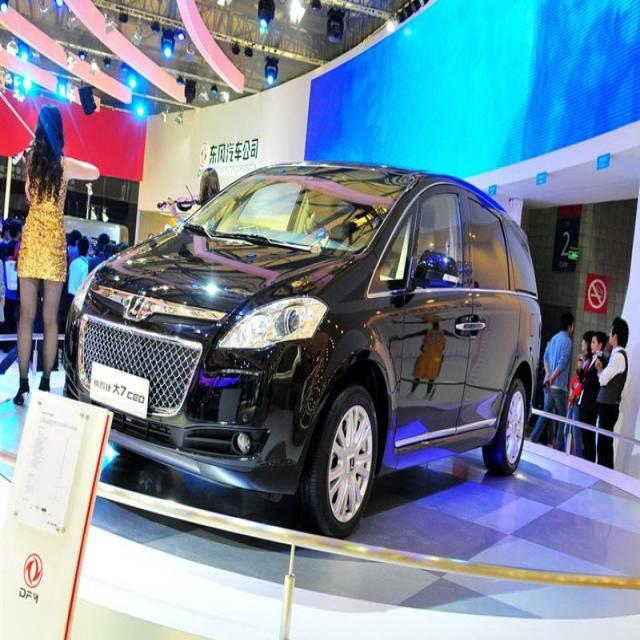front_bumper: (63, 309, 320, 498)
front_glass: (183, 166, 420, 254)
front_left_side_door: (390, 178, 480, 454)
front_left_side_light: (211, 296, 329, 352)
front_left_side_mirror: (406, 250, 462, 292)
front_right_side_light: (71, 262, 101, 314)
wheel: (294, 377, 379, 542), (480, 376, 530, 480)
